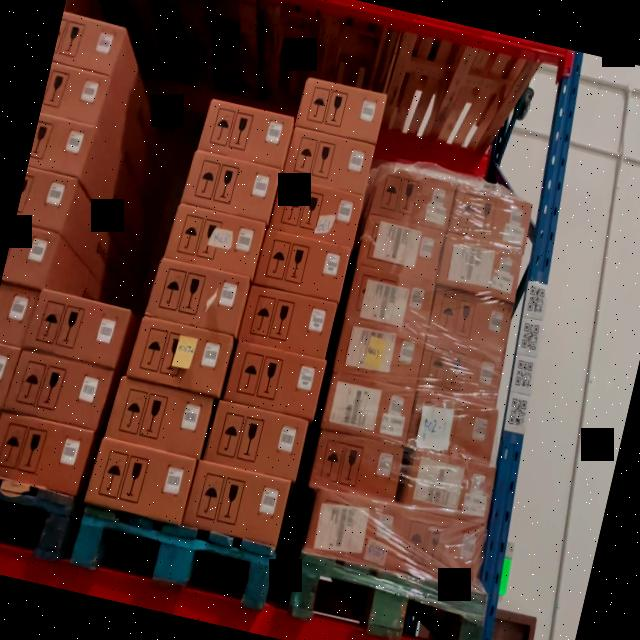box: (85, 436, 196, 523), (181, 459, 293, 545), (3, 350, 113, 431), (105, 376, 213, 458), (127, 315, 234, 397), (202, 399, 309, 481), (222, 340, 327, 420), (25, 289, 130, 369), (145, 258, 251, 336), (304, 488, 404, 569), (390, 505, 487, 587), (162, 203, 267, 278), (237, 284, 338, 360), (0, 414, 93, 496), (179, 149, 280, 222), (319, 369, 416, 444), (307, 428, 404, 502), (404, 388, 499, 463), (402, 448, 497, 522), (268, 175, 363, 249), (253, 231, 351, 302), (196, 98, 294, 169), (332, 317, 425, 388), (344, 264, 435, 335), (294, 74, 387, 143), (282, 127, 375, 194), (416, 337, 505, 407), (435, 235, 524, 304), (357, 215, 444, 282), (426, 288, 513, 354), (447, 185, 532, 250)
